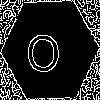O: (25, 25, 61, 73)
